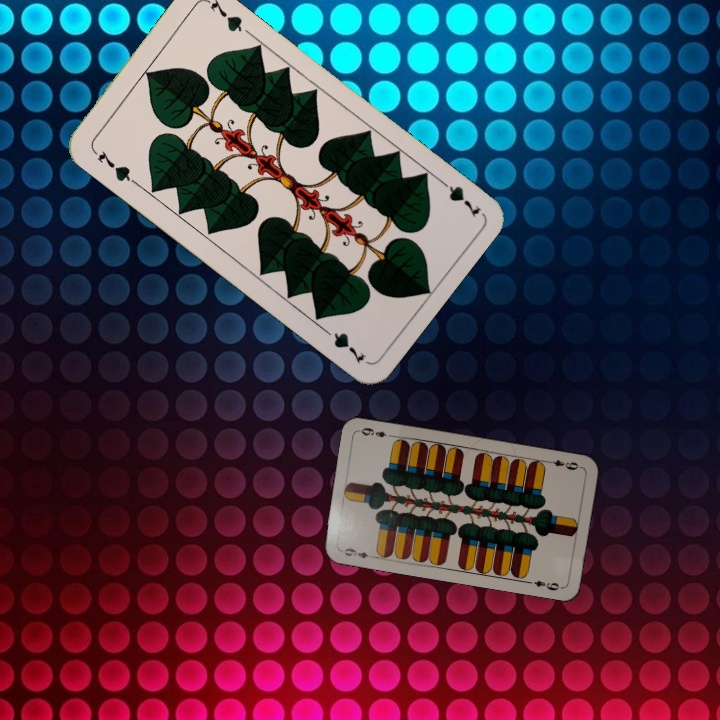E9: (543, 455, 583, 473), (337, 544, 377, 561)
G7: (433, 173, 484, 220), (89, 145, 139, 186)
